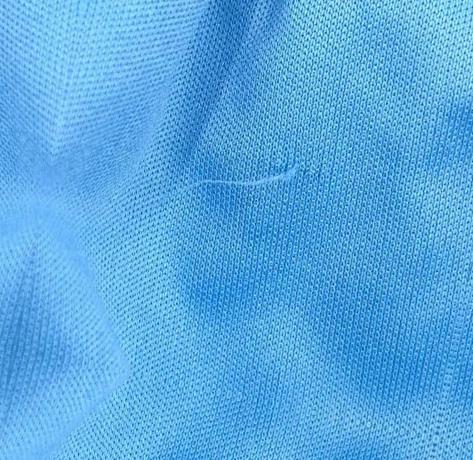snag: (189, 150, 317, 207)
